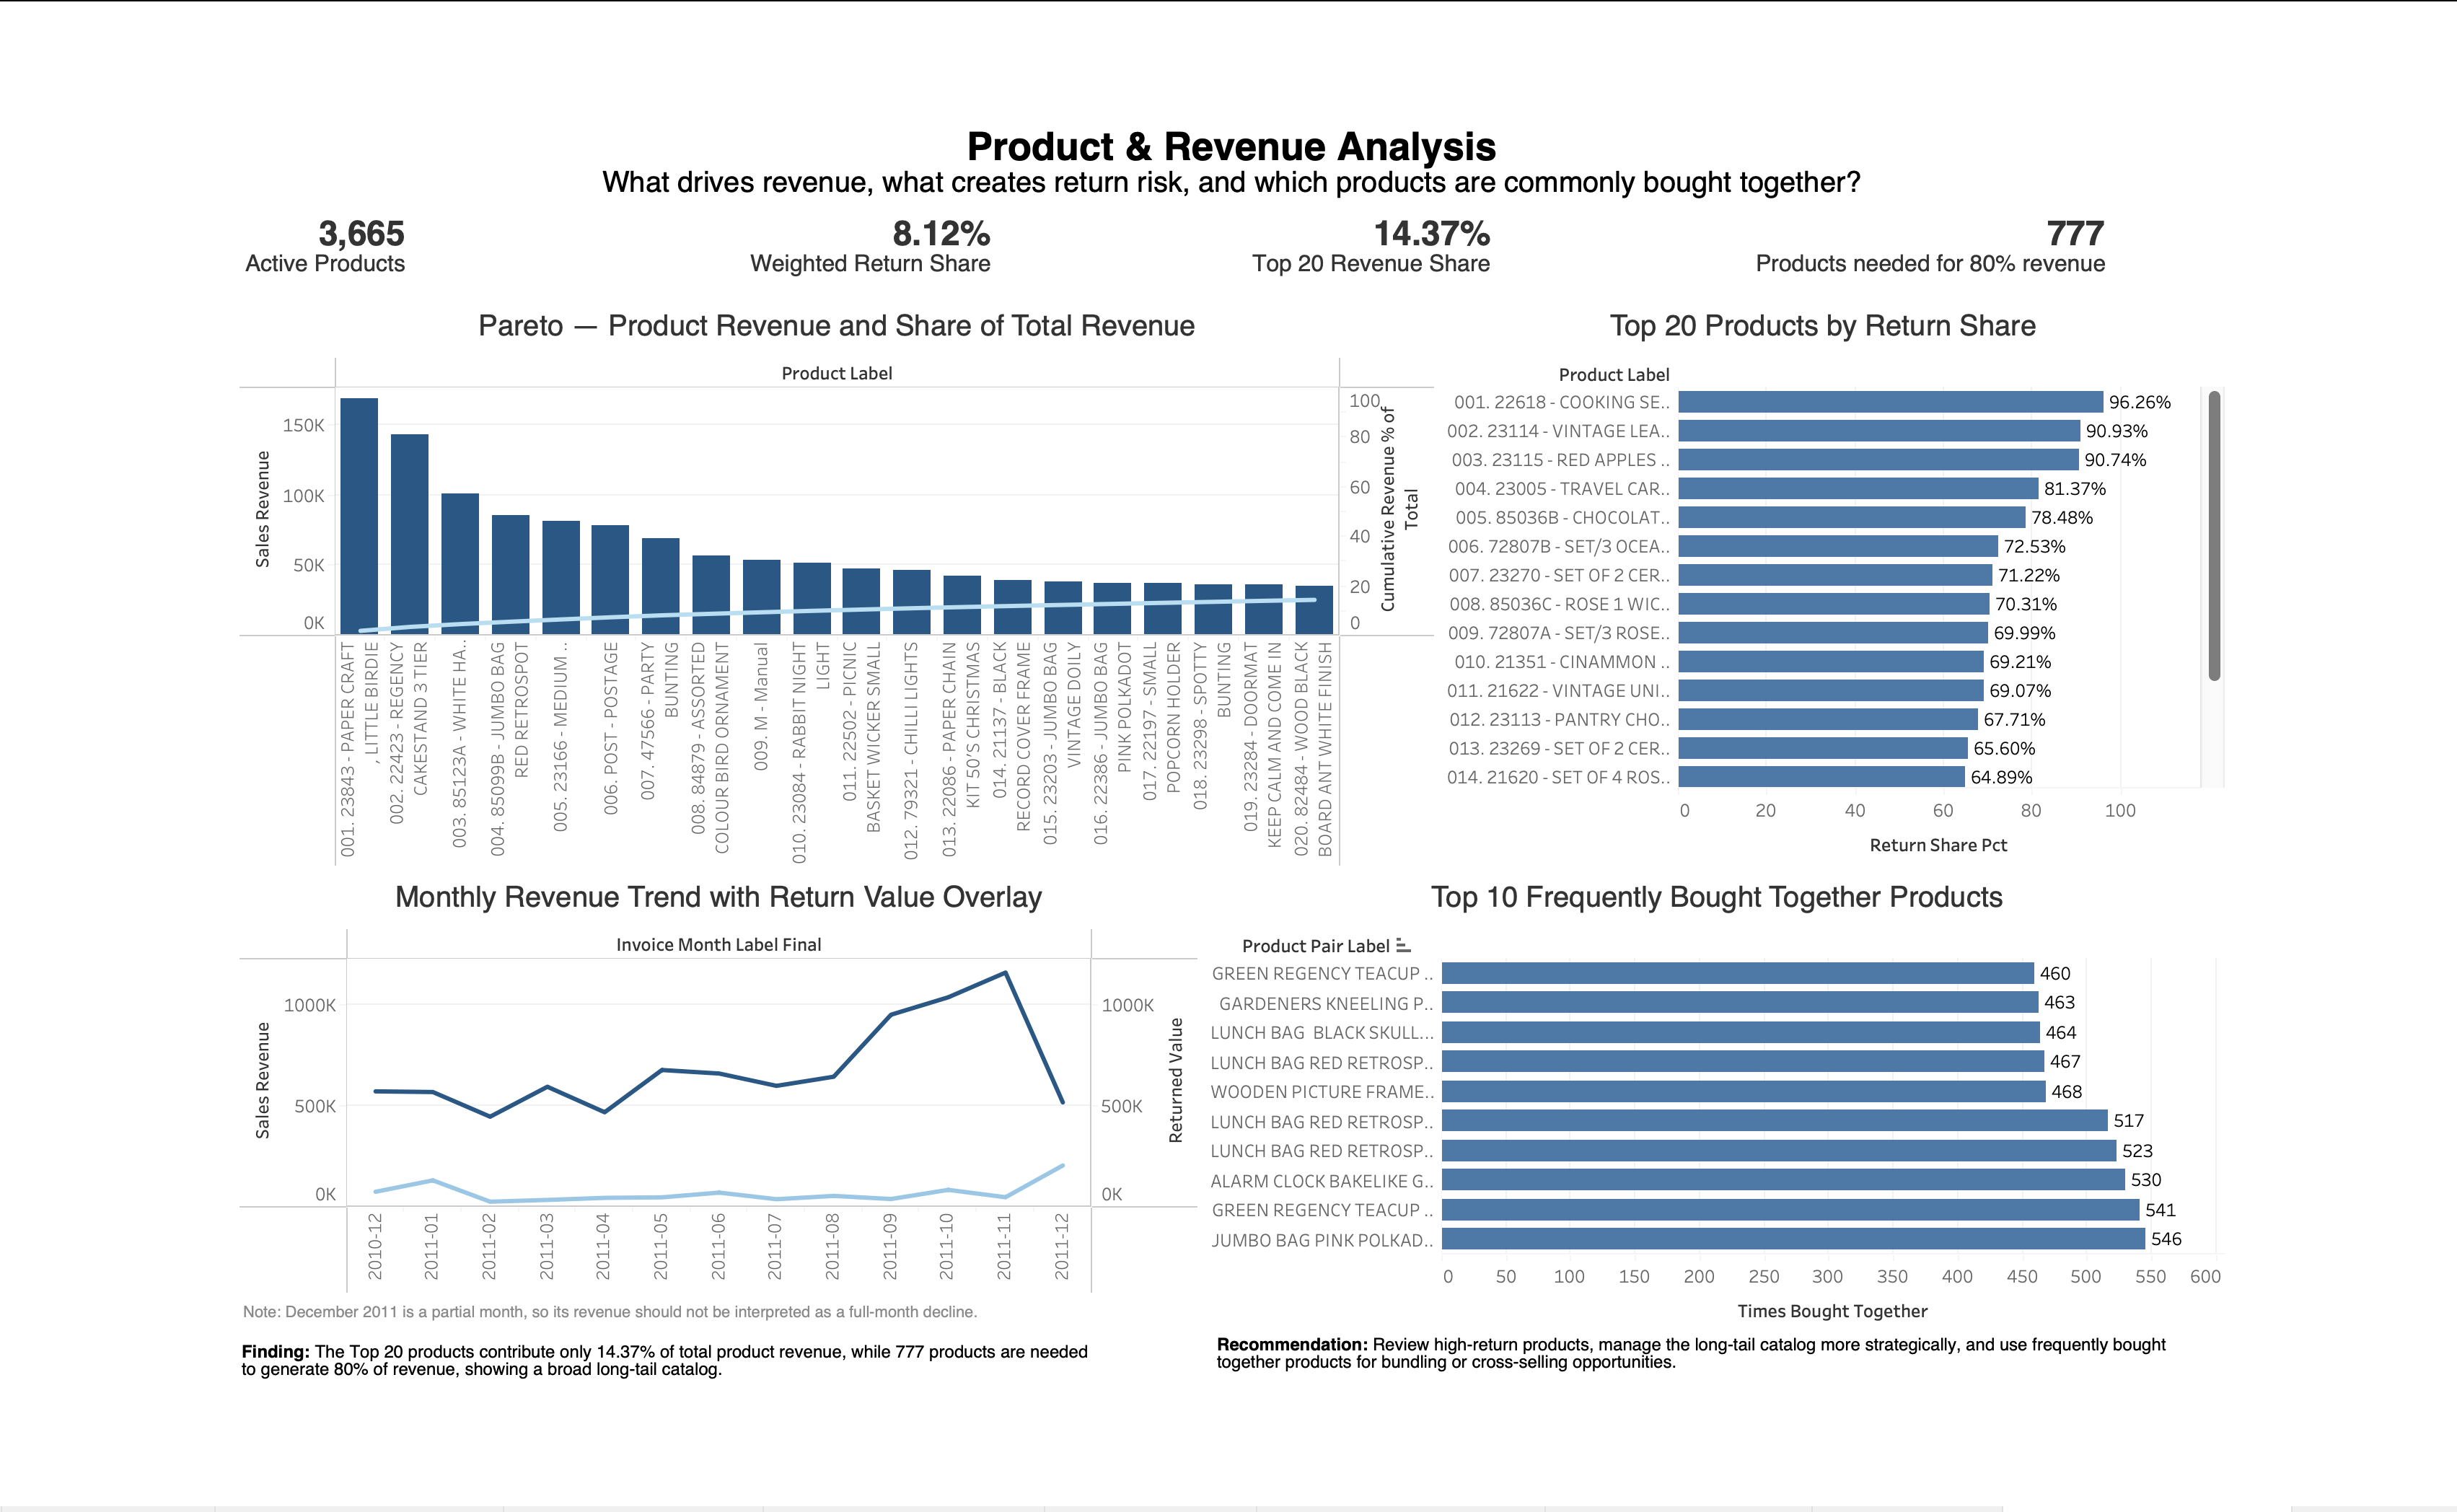

What the dashboard file says about the page in this screenshot:
{"tool":"tableau","page":{"name":"Dashboard 3 - Product Revenue Analysis","canvas":[1400,900],"ordinal":2},"visuals":[{"type":"text","box":[8,8,1384,68]},{"type":"worksheet","title":"D3 KPI Active Products","mark":"Automatic","box":[8,76,346,61]},{"type":"worksheet","title":"D3 KPI Return Share","mark":"Automatic","box":[354,76,346,48]},{"type":"worksheet","title":"D3 KPI Top 20 Revenue Share","mark":"Automatic","box":[700,76,346,61]},{"type":"worksheet","title":"D3 KPI Products Needed for 80% Revenue","mark":"Automatic","box":[1046,76,346,61]},{"type":"worksheet","title":"D3 Pareto Total Revenue Share","mark":"Bar","rows":["sales_revenue","cumulative_revenue_pct"],"cols":["product_label"],"box":[8,137,837,396.5]},{"type":"worksheet","title":"D3 Product Return Risk Corrected","mark":"Automatic","rows":["product_label"],"cols":["return_share_pct"],"box":[845,137,547,396.5]},{"type":"worksheet","title":"D3 Frequently Bought Together","mark":"Automatic","rows":["Calculation_0448748906106895"],"cols":["times_bought_together"],"box":[681,533,711,323]},{"type":"worksheet","title":"D3 Monthly Revenue Returns","mark":"Line","rows":["sales_revenue","returned_value"],"cols":["Calculation_0448748904685582"],"box":[8,533.5,673,295.6]},{"type":"text","box":[8,829,673,19]},{"type":"text","box":[687,845,664,44]},{"type":"text","box":[11,850,603,44]}]}

Visuals, with their boxes on the page's 1400x900 design canvas (x1, y1, x2, y2). These are canvas units, not pixel positions in the 2457x1512 screenshot, which may show the page scaled, cropped or inside an application window:
text: (8, 8, 1392, 76)
"D3 KPI Active Products" worksheet: (8, 76, 354, 137)
"D3 KPI Return Share" worksheet: (354, 76, 700, 124)
"D3 KPI Top 20 Revenue Share" worksheet: (700, 76, 1046, 137)
"D3 KPI Products Needed for 80% Revenue" worksheet: (1046, 76, 1392, 137)
"D3 Pareto Total Revenue Share" worksheet (Bar marks): (8, 137, 845, 534)
"D3 Product Return Risk Corrected" worksheet: (845, 137, 1392, 534)
"D3 Frequently Bought Together" worksheet: (681, 533, 1392, 856)
"D3 Monthly Revenue Returns" worksheet (Line marks): (8, 534, 681, 829)
text: (8, 829, 681, 848)
text: (687, 845, 1351, 889)
text: (11, 850, 614, 894)
